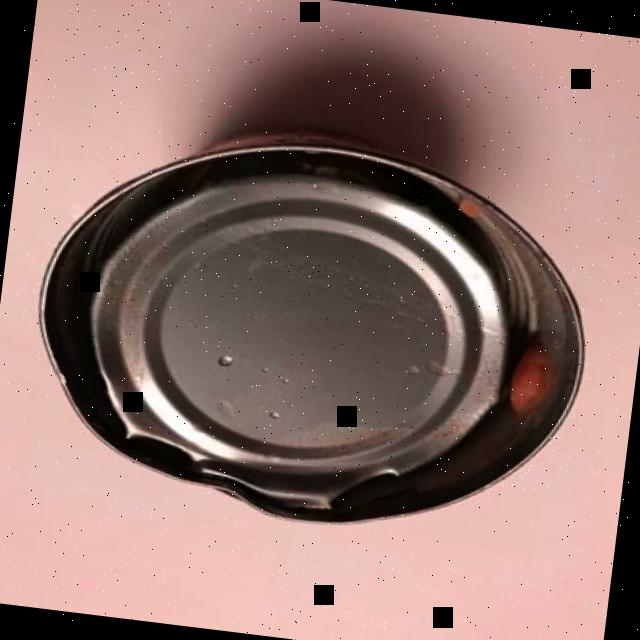can: (14, 93, 618, 556)
